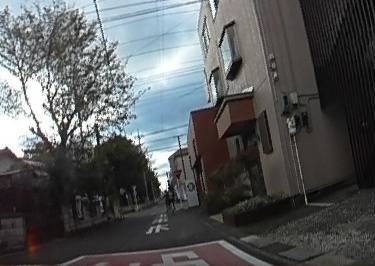person: (166, 186, 176, 211)
